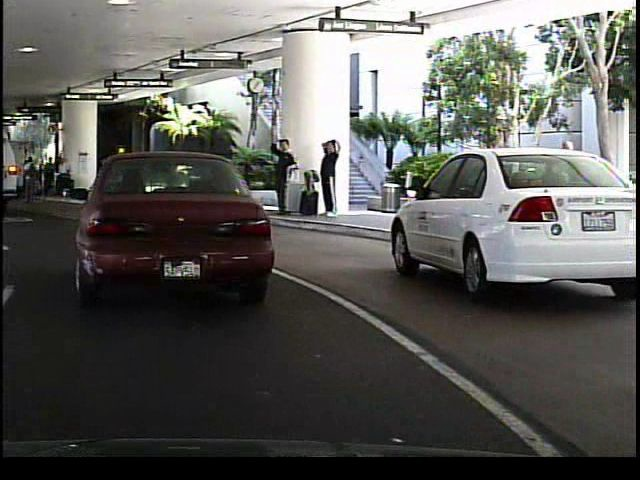person: (315, 134, 340, 220), (268, 132, 288, 213), (312, 148, 334, 214), (156, 155, 175, 196)
